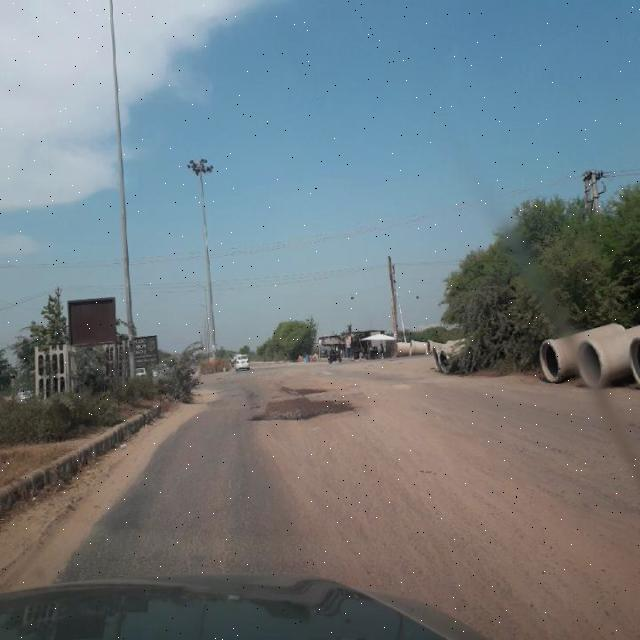D40: (228, 374, 366, 422)
